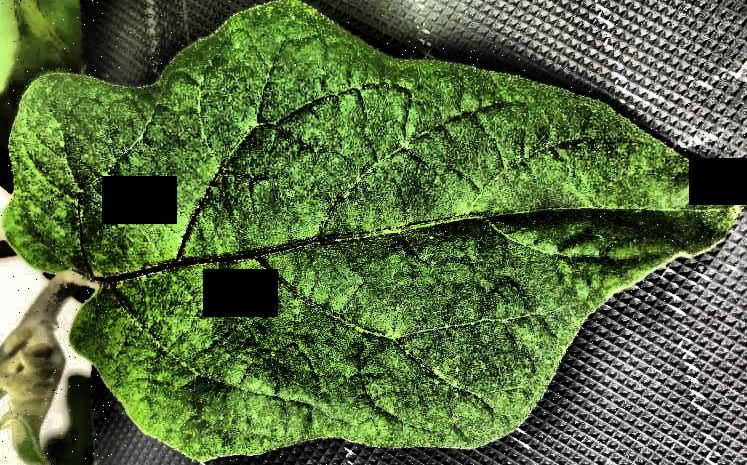HEALTHY: (1, 1, 747, 465)
